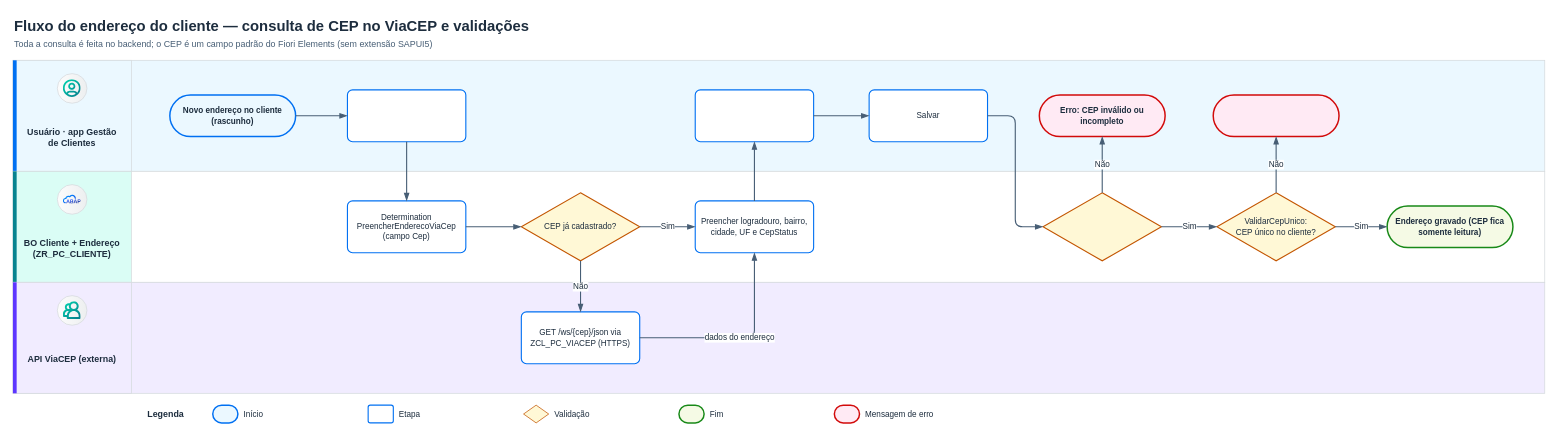
Image size: 1558x436. Some labels were removed from this diagram. Each missing label, with the centre of its shape:
"Erro 047: CEP repetido no mesmo cliente" goes at pixel 1275 115.
"Informar o CEP ou escolher no value help ZC_PC_CEP_VH" goes at pixel 406 115.
"Side effects recarregam os campos na tela" goes at pixel 754 115.
"ValidarCep: CEP válido?" goes at pixel 1102 226.
